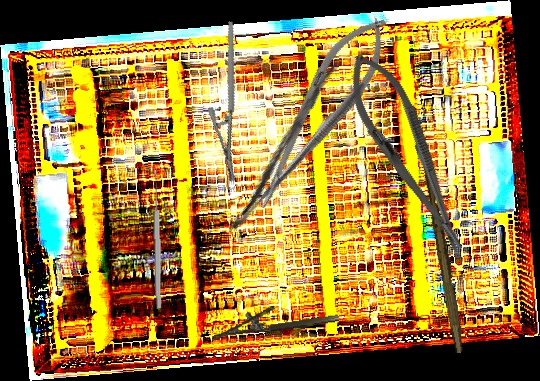Dressing Forceps: (203, 57, 369, 236)
Needle Holder: (236, 3, 404, 220), (333, 43, 482, 263), (179, 20, 285, 185), (208, 297, 340, 341)
Scalpel Handle: (418, 160, 470, 354)
Surgical Spoon: (152, 169, 163, 309)
